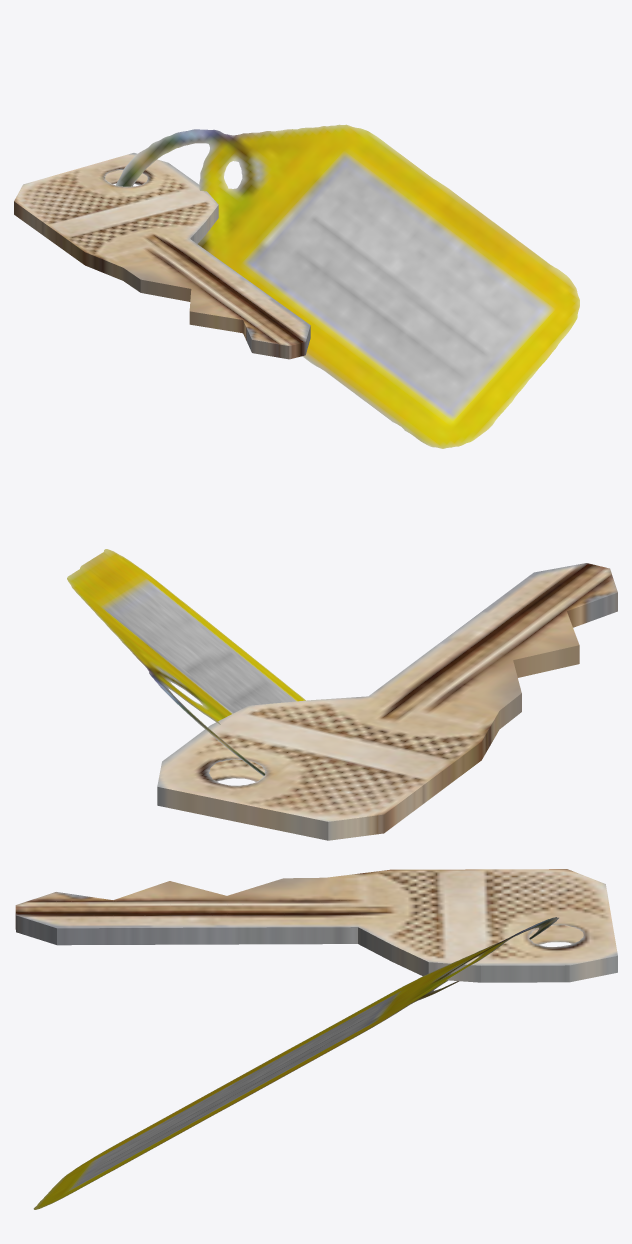
The model's file is key_lockbox.fbx.
3 renders of one model, top to bottom at view 1: azimuth 30°, elevation 25°; view 2: azimuth 150°, elevation 25°; view 3: azimuth 270°, elevation 25°, orthographic. The views are drawn at different scales.
Visible parts, largest first — view 1: key_lockbox; view 2: key_lockbox; view 3: key_lockbox.
Part boxes in pixels (x1,y1,x2,y2): key_lockbox: (14,124,579,448); key_lockbox: (67,549,617,840); key_lockbox: (15,869,617,1209).
Bounding box in the file's own units: 17.85 × 12.85 × 18.22.
Materials: 1 (1 with a texture image).
